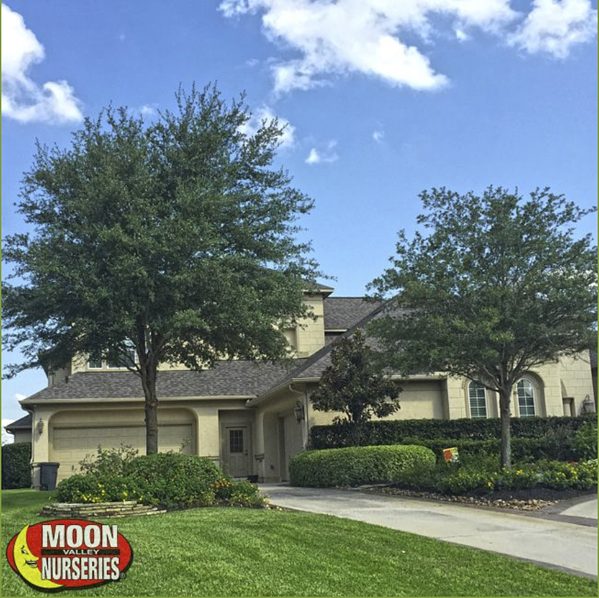bush: (284, 435, 450, 487)
tree: (8, 100, 322, 480), (359, 181, 599, 483)
